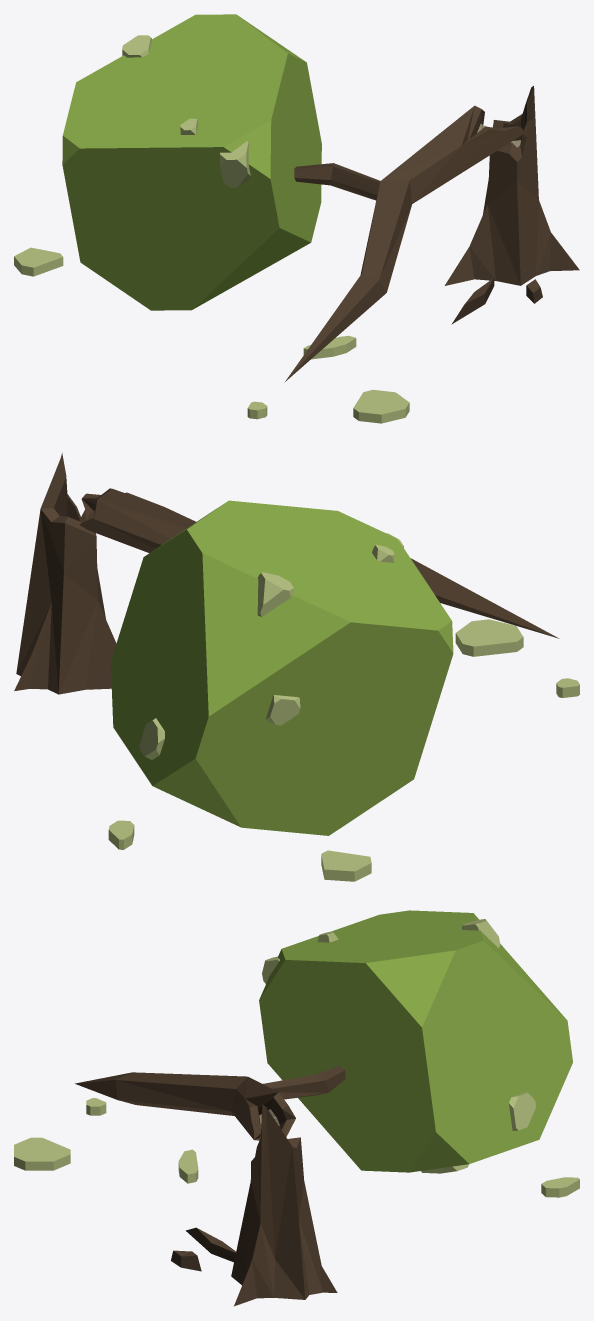
Rendered from Tree_D_05.FBX.
3 views of the same model, one above another, from view 1: azimuth 30°, elevation 25°; view 2: azimuth 150°, elevation 25°; view 3: azimuth 270°, elevation 25° (orthographic). The views are drawn at different scales.
Visible parts, largest first — view 1: Tree_D_05; view 2: Tree_D_05; view 3: Tree_D_05.
Part boxes in pixels (box(x1,y1,x2,y2)): Tree_D_05: box(14, 14, 579, 423); Tree_D_05: box(14, 452, 579, 881); Tree_D_05: box(14, 910, 579, 1306).
Size of the model in its own units: 2.56 by 1.34 by 2.8.
